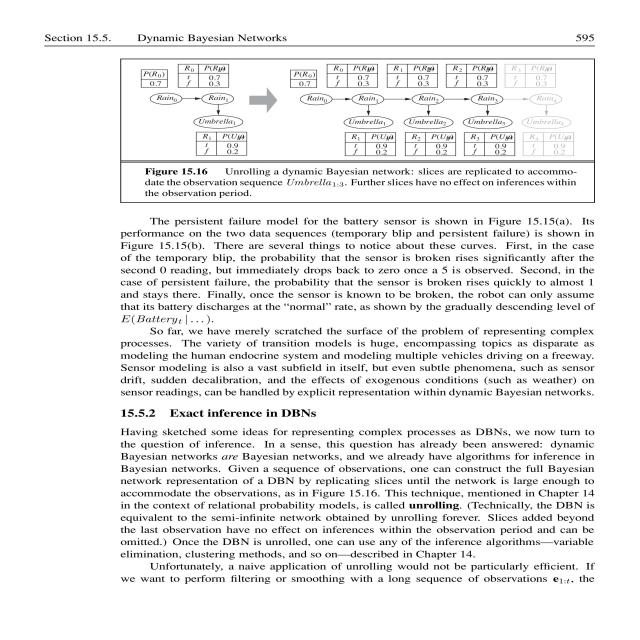diagram: (70, 59, 633, 204)
